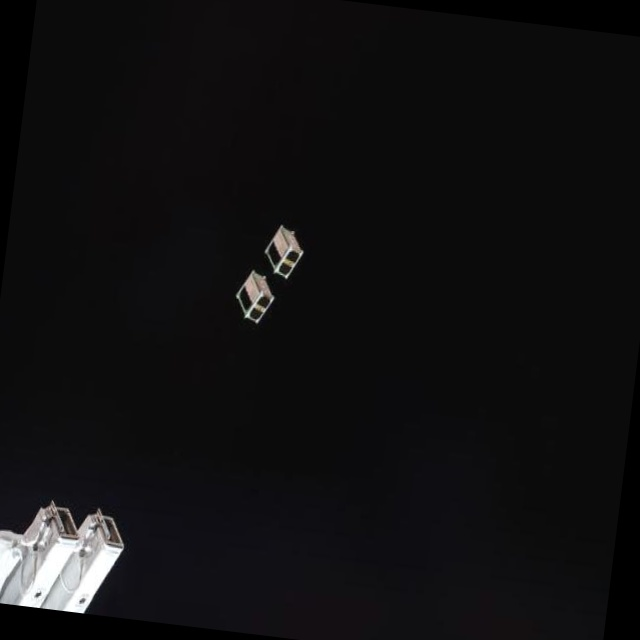satellite: (230, 264, 275, 332), (261, 219, 307, 281)
